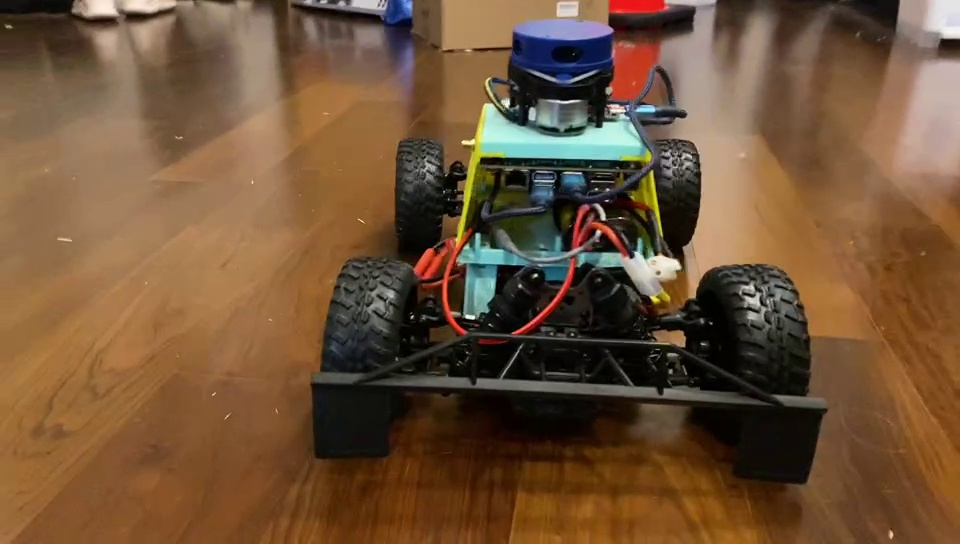mushr_car: (317, 21, 830, 492)
